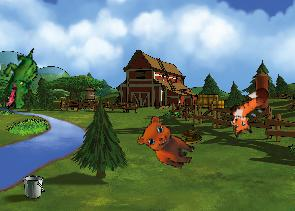bear: (133, 112, 202, 172)
crocodile: (0, 48, 40, 110)
fox: (219, 84, 281, 141)
